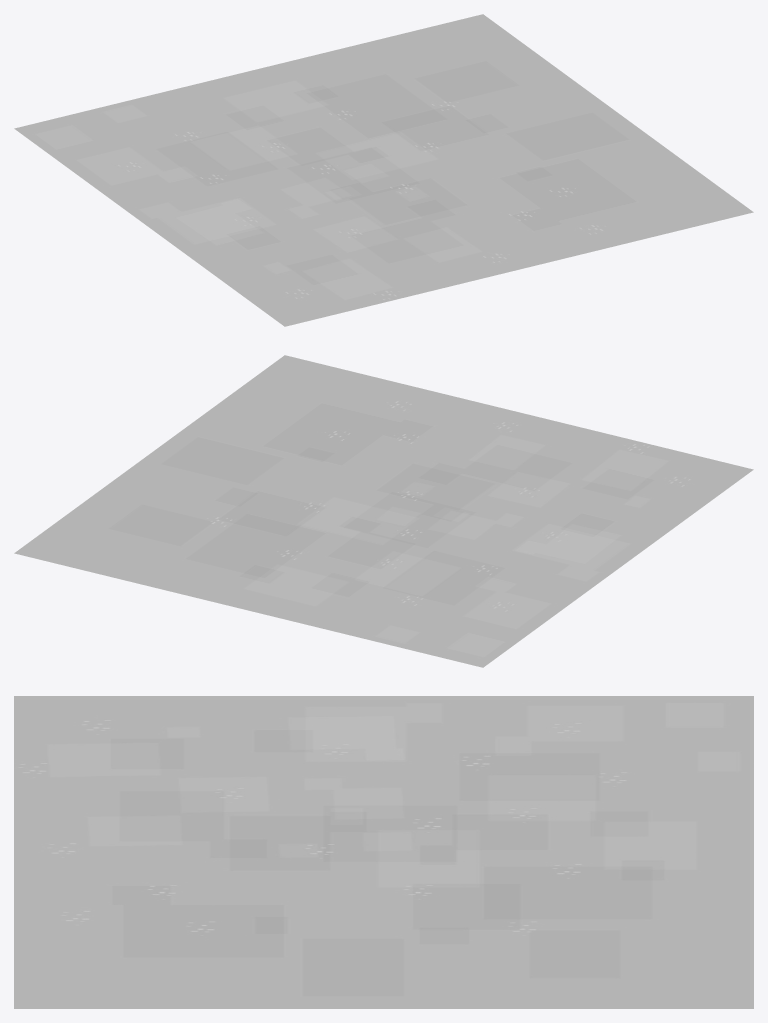
File: factory_plane.gltf
The picture shows the model from 3 angles, top to bottom: view 1: azimuth 30°, elevation 25°; view 2: azimuth 150°, elevation 25°; view 3: azimuth 270°, elevation 25°; orthographic projection. The views are drawn at different scales.
Visible parts, largest first — view 1: pPlane1; view 2: pPlane1; view 3: pPlane1.
Part boxes in pixels (x1,y1,x2,y2): pPlane1: [14, 14, 753, 326]; pPlane1: [14, 355, 753, 667]; pPlane1: [14, 696, 753, 1008].
Size of the model in its own units: 14.44 by 3.21e-15 by 14.44.
Materials: 1 (1 with a texture image).
